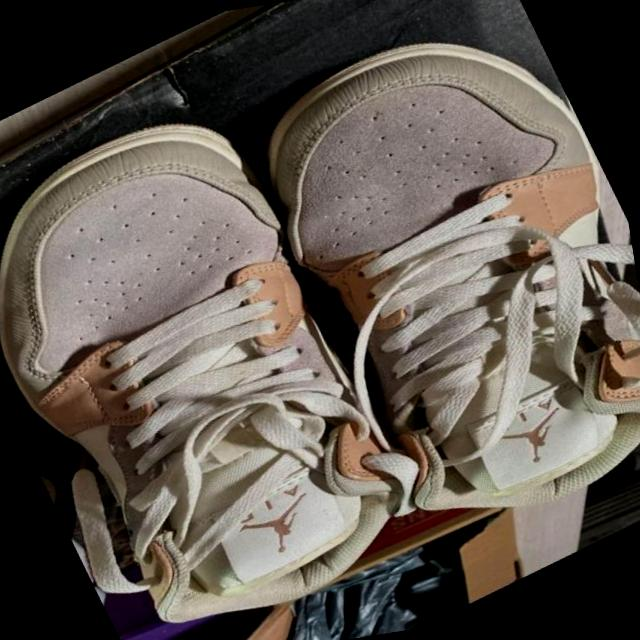nike_fake_jordan: (0, 59, 455, 640), (212, 0, 640, 578)
